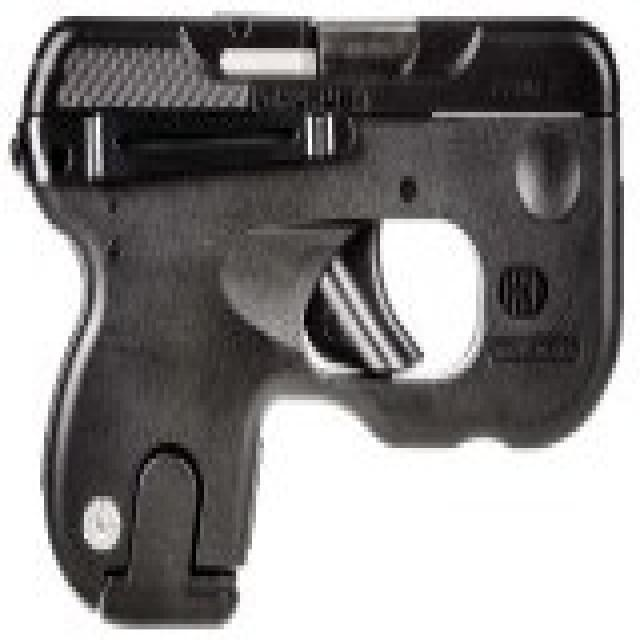Gun: (8, 13, 617, 607)
